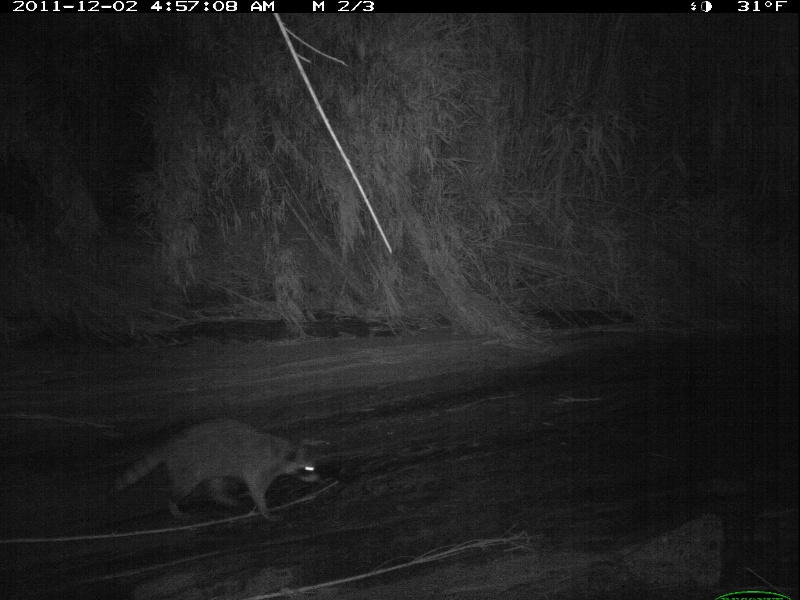raccoon: (119, 417, 319, 513)
